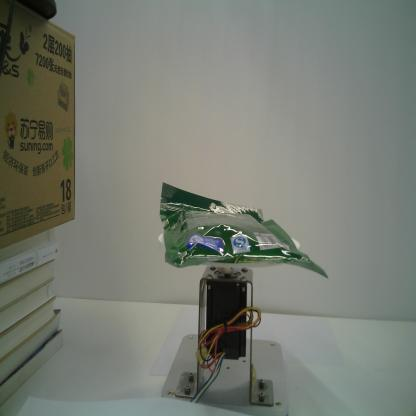Dried Food: (158, 182, 328, 282)
